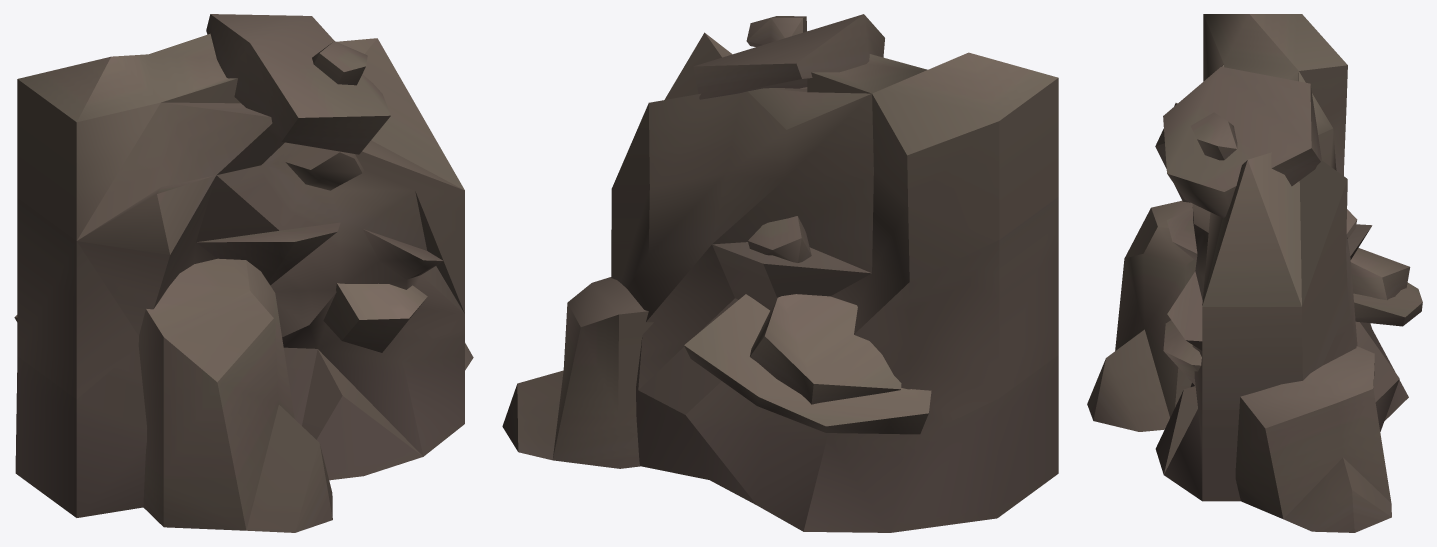
Rendered from rubble_half.glb.
The picture shows the model from 3 angles, left to right: view 1: azimuth 30°, elevation 25°; view 2: azimuth 150°, elevation 25°; view 3: azimuth 270°, elevation 25°; orthographic projection. The views are drawn at different scales.
Parts seen in each view (by area): view 1: rubble_half; view 2: rubble_half; view 3: rubble_half.
Part boxes in pixels (left/top/right/bottom): rubble_half: left=14, top=14, right=473, bottom=532; rubble_half: left=502, top=14, right=1058, bottom=532; rubble_half: left=1087, top=14, right=1422, bottom=532.
Bounding box in the file's own units: 4 × 3.5 × 3.
Materials: 1 (1 with a texture image).
